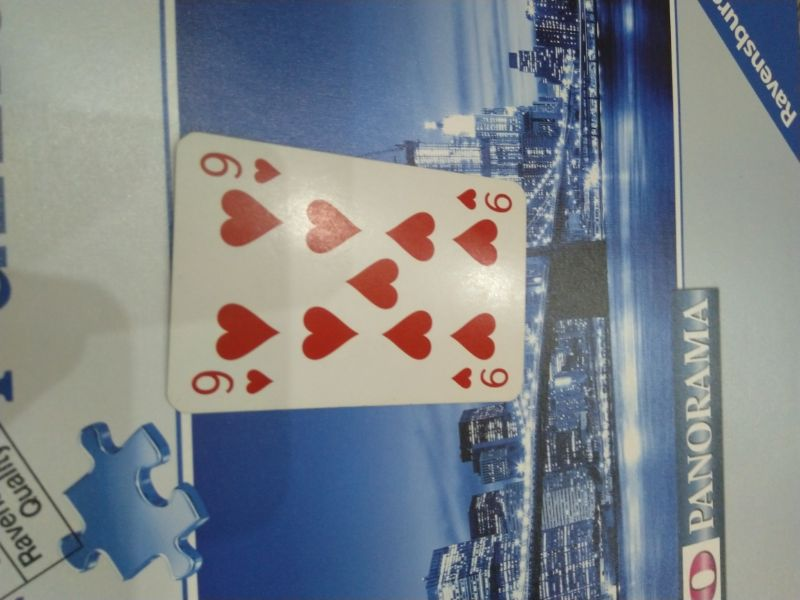9h: (196, 141, 283, 189), (187, 364, 281, 402), (449, 184, 517, 216), (447, 364, 511, 393)
